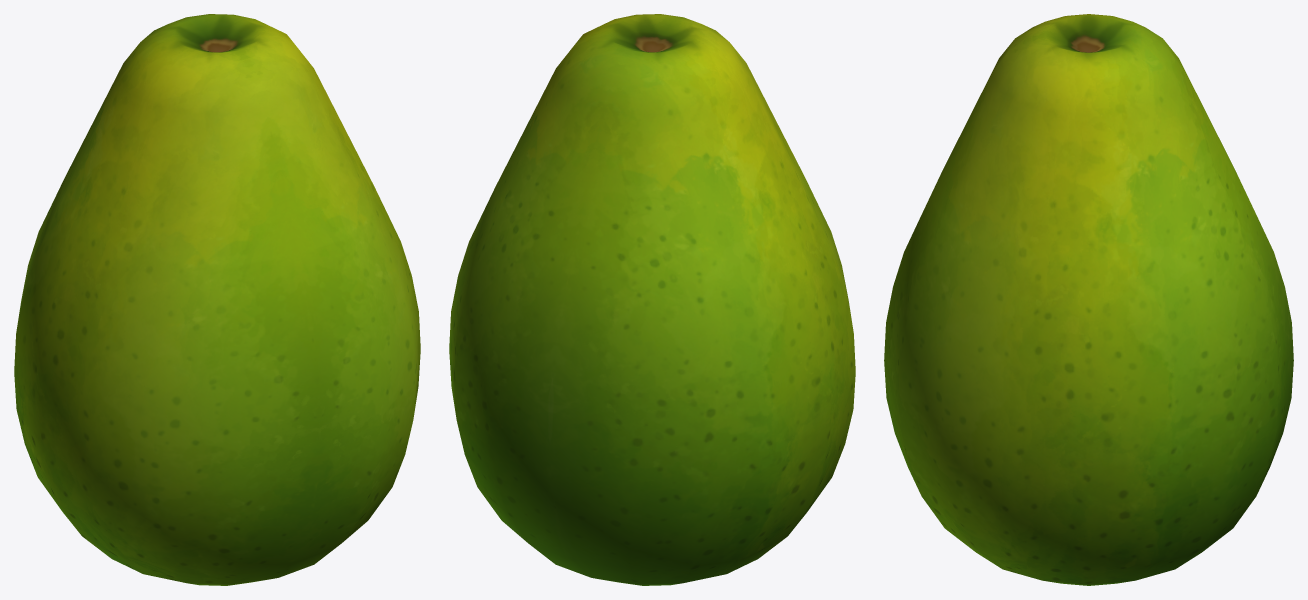
Rendered from Papaya_Green.fbx.
3 renders of one model, left to right at view 1: azimuth 30°, elevation 25°; view 2: azimuth 150°, elevation 25°; view 3: azimuth 270°, elevation 25°, orthographic.
Visible parts, largest first — view 1: Papaya_Green; view 2: Papaya_Green; view 3: Papaya_Green.
Boxes of the visible parts, x1=… form: Papaya_Green: x1=14, y1=14, x2=420, y2=585; Papaya_Green: x1=449, y1=14, x2=855, y2=585; Papaya_Green: x1=884, y1=14, x2=1293, y2=585.
Bounding box in the file's own units: 37.94 × 54.68 × 37.94.
